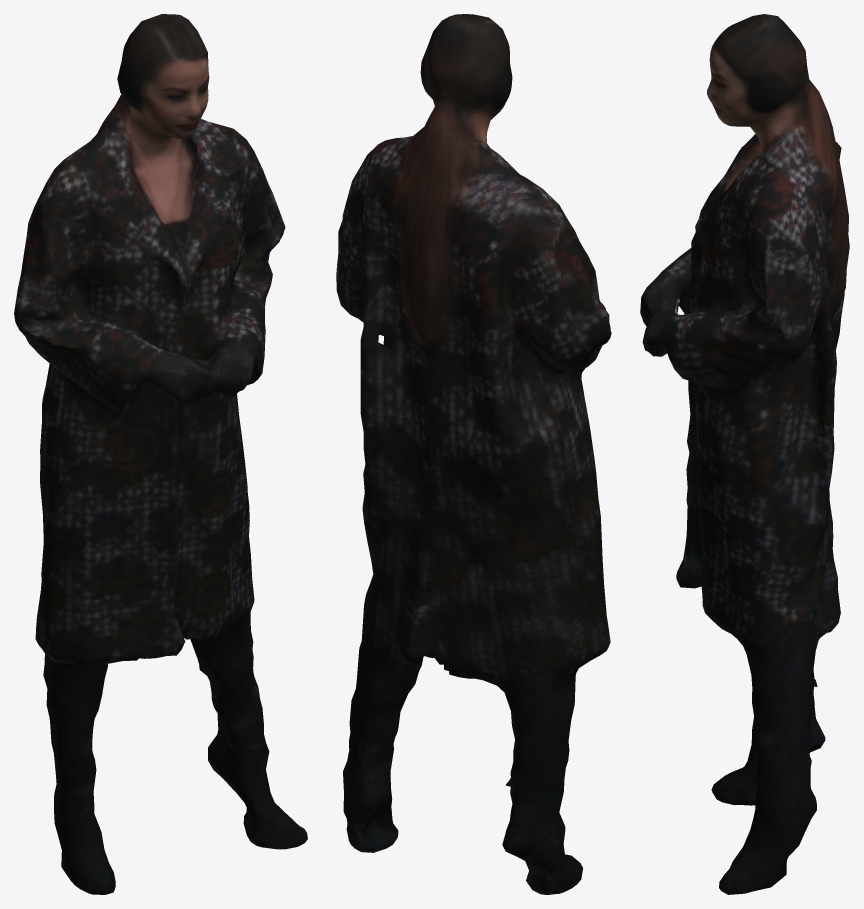
File: evercoast.0047.gltf
3 views of the same model, side by side, from view 1: azimuth 30°, elevation 25°; view 2: azimuth 150°, elevation 25°; view 3: azimuth 270°, elevation 25° (orthographic). The views are drawn at different scales.
Parts seen in each view (by area): view 1: HIGH; view 2: HIGH; view 3: HIGH.
Boxes of the visible parts, x1,y1,x2,y2 form: HIGH: [14, 14, 307, 894]; HIGH: [336, 14, 611, 894]; HIGH: [640, 14, 849, 894].
Bounding box in the file's own units: 0.6134 × 1.83 × 0.4232.
1 material, 1 textured.
